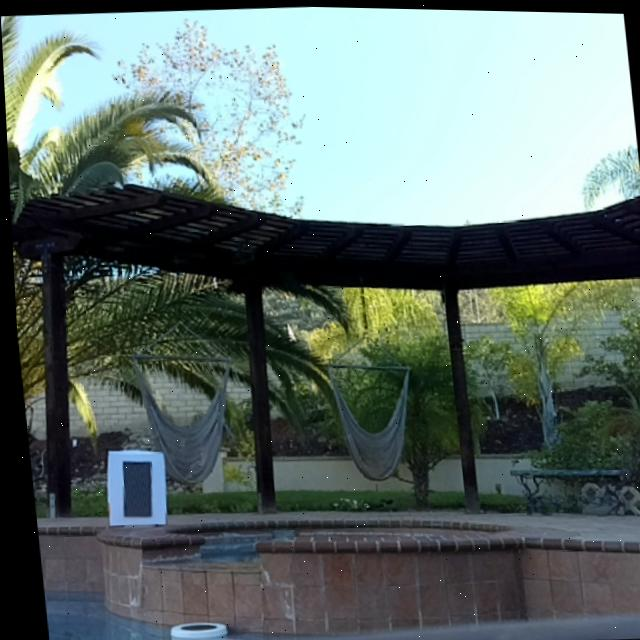led: (115, 460, 151, 519)
